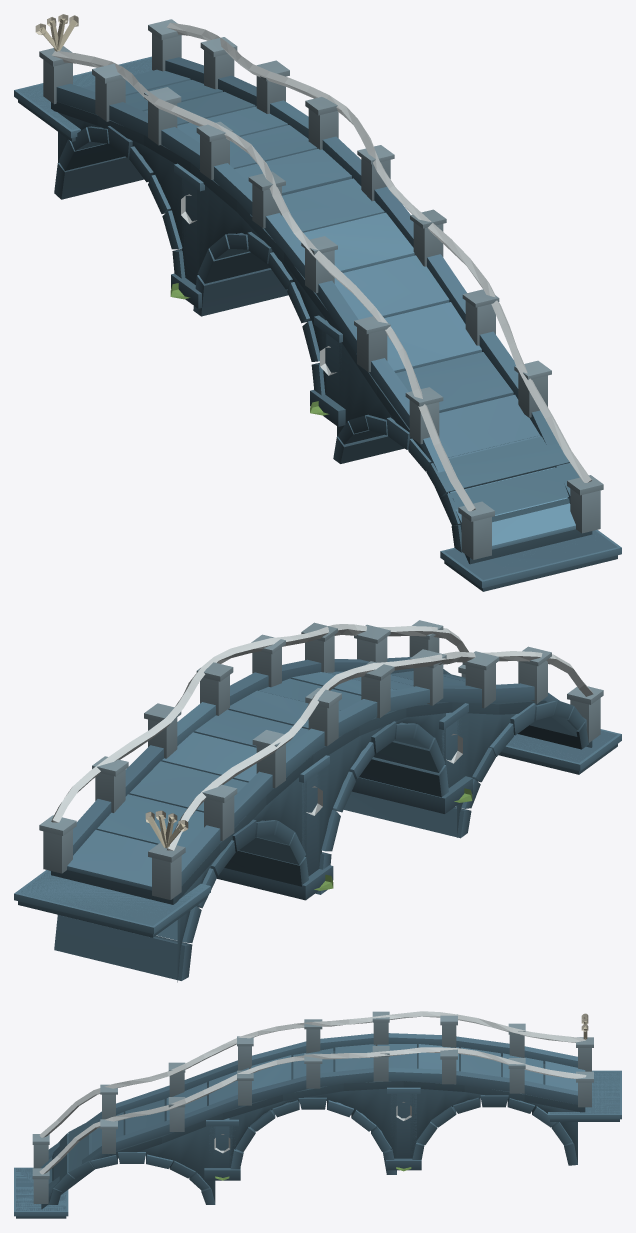
The model's file is hanuman-leap.glb.
3 views of the same model, one above another, from view 1: azimuth 30°, elevation 25°; view 2: azimuth 150°, elevation 25°; view 3: azimuth 270°, elevation 25° (orthographic). The views are drawn at different scales.
Parts seen in each view (by area): view 1: bridge-hanuman-leap; view 2: bridge-hanuman-leap; view 3: bridge-hanuman-leap.
Boxes of the visible parts, x1,y1,x2,y2 form: bridge-hanuman-leap: [14, 14, 621, 591]; bridge-hanuman-leap: [14, 620, 621, 982]; bridge-hanuman-leap: [14, 1011, 621, 1218].
Size of the model in its own units: 0.5078 by 0.7656 by 2.54.
